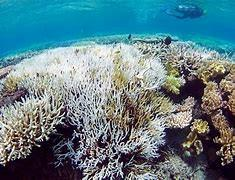bleached_corals: (49, 44, 196, 180)
